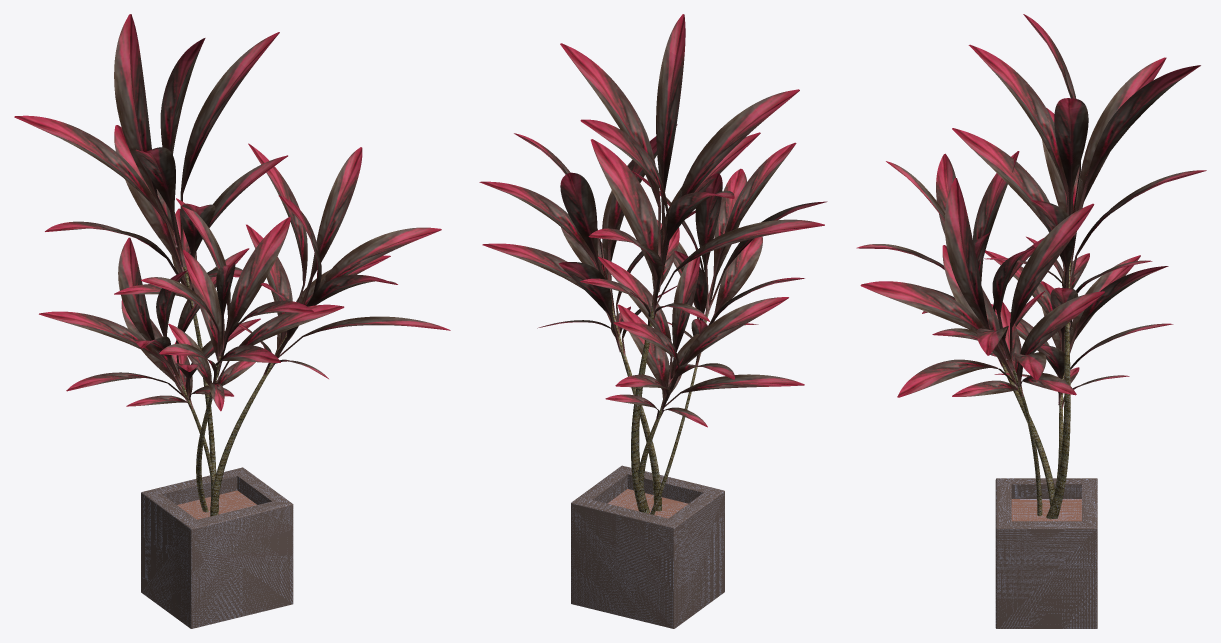
3 renders of one model, left to right at view 1: azimuth 30°, elevation 25°; view 2: azimuth 150°, elevation 25°; view 3: azimuth 270°, elevation 25°, orthographic.
Parts seen in each view (by area): view 1: cordyline_1 (×31), group_6 (×3), group_1 (×3); view 2: cordyline_1 (×31), group_6 (×3), group_1 (×3); view 3: cordyline_1 (×28), group_6 (×3), group_1 (×3).
Boxes of the visible parts, box(x1,y1,x2,y2) form: cordyline_1 (×31): box(14, 14, 450, 401); group_6 (×3): box(141, 467, 293, 628); group_1 (×3): box(183, 254, 286, 516); cordyline_1 (×31): box(479, 14, 827, 412); group_6 (×3): box(571, 465, 724, 628); group_1 (×3): box(612, 276, 708, 514); cordyline_1 (×28): box(860, 14, 1206, 405); group_6 (×3): box(995, 478, 1097, 628); group_1 (×3): box(1001, 259, 1071, 518).
Bounding box in the file's own units: 25.34 × 20.7 × 37.68.
Materials: 6 (2 with a texture image).
